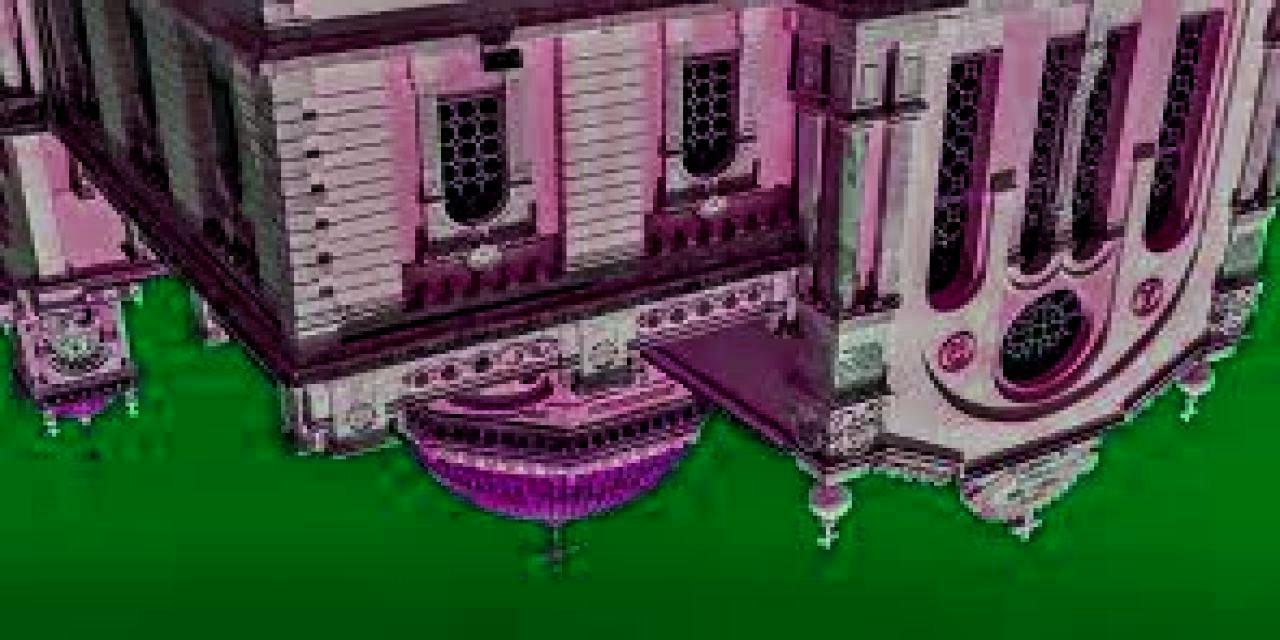Agios Minas: (1, 2, 1280, 558)
